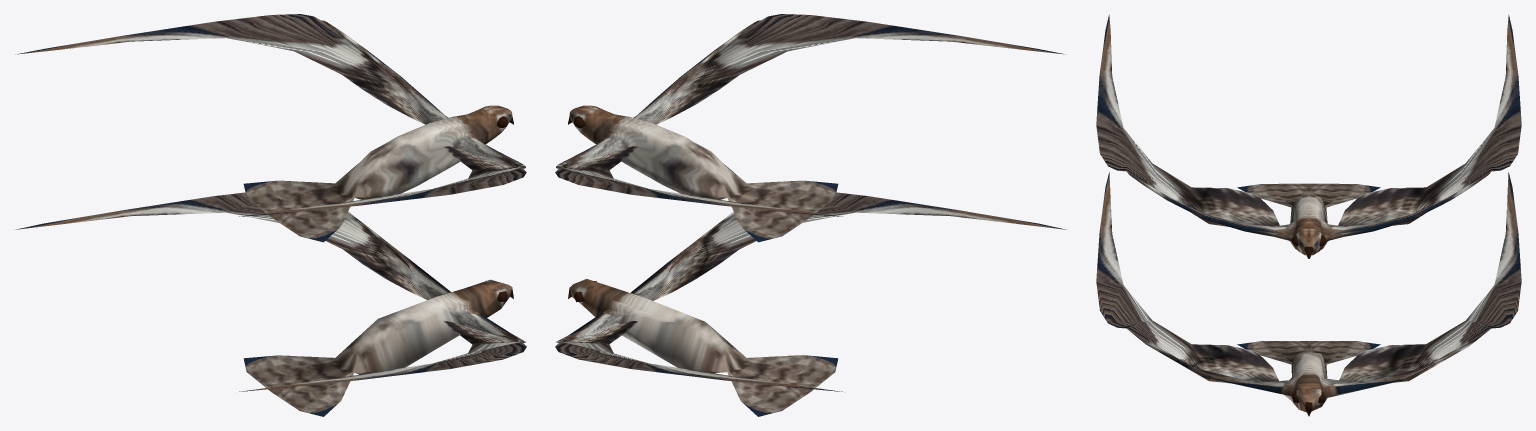
The model's file is for odette.fbx.
3 views of the same model, side by side, from view 1: azimuth 30°, elevation 25°; view 2: azimuth 150°, elevation 25°; view 3: azimuth 270°, elevation 25° (orthographic). The views are drawn at different scales.
Parts seen in each view (by area): view 1: Cube, Cube.001; view 2: Cube, Cube.001; view 3: Cube, Cube.001.
Part boxes in pixels (x1=…): Cube: x1=15, y1=14, x2=526, y2=242; Cube.001: x1=16, y1=192, x2=526, y2=416; Cube: x1=555, y1=14, x2=1066, y2=242; Cube.001: x1=555, y1=192, x2=1065, y2=416; Cube: x1=1096, y1=14, x2=1521, y2=258; Cube.001: x1=1096, y1=172, x2=1521, y2=416.
Bounding box in the file's own units: 3614 × 2655 × 3801.
2 materials, 1 textured.
